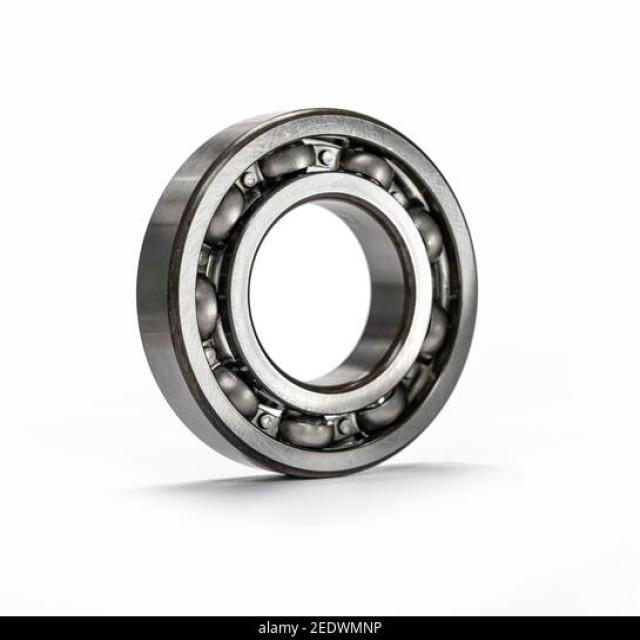Bearing: (123, 101, 482, 482)
